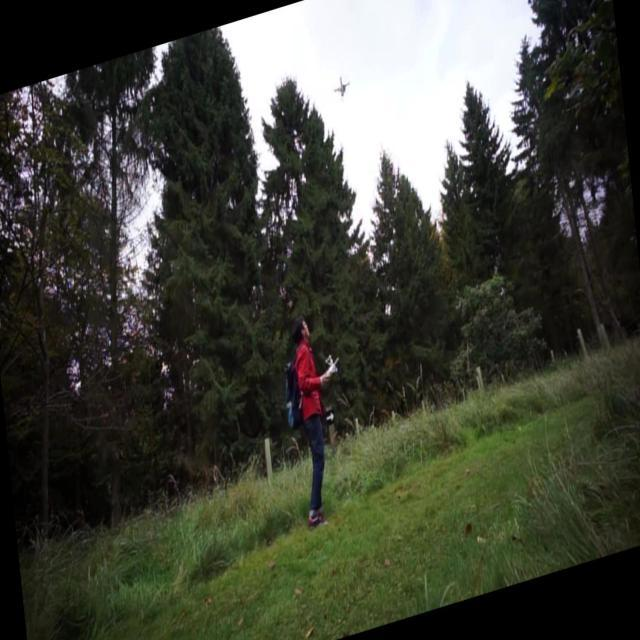drone: (330, 66, 354, 110)
